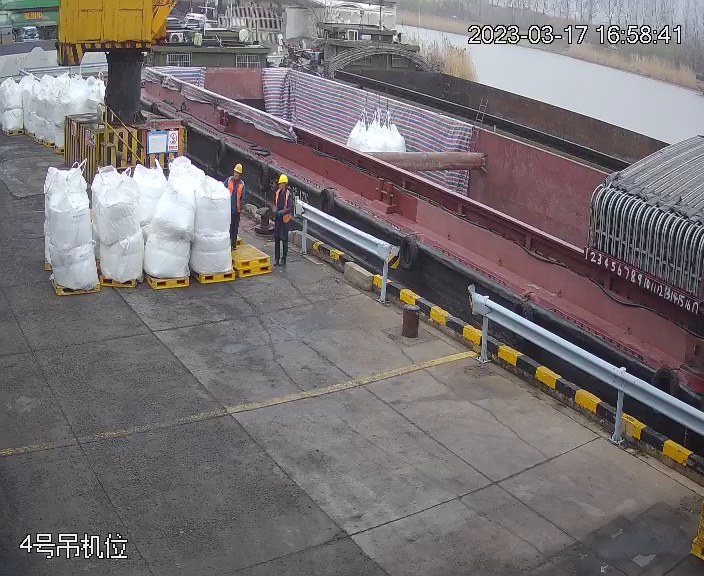head: (227, 160, 247, 192), (275, 172, 294, 202)
helmet: (232, 163, 243, 175), (278, 173, 288, 185)
people: (266, 172, 297, 273), (222, 159, 248, 252)
